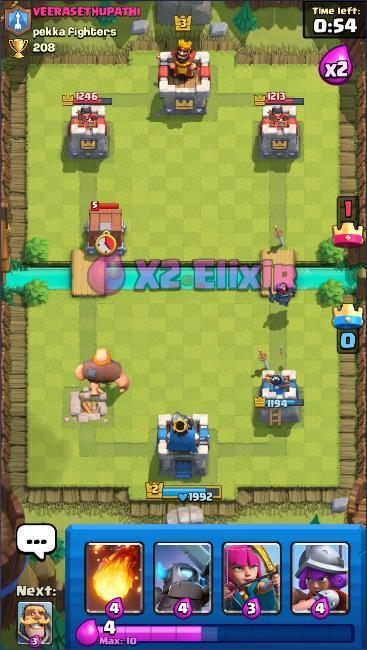ally_giant: (75, 346, 131, 398)
enemy_goblin_cage: (81, 199, 129, 259)
enemy_mini_pekka: (266, 281, 298, 310)
